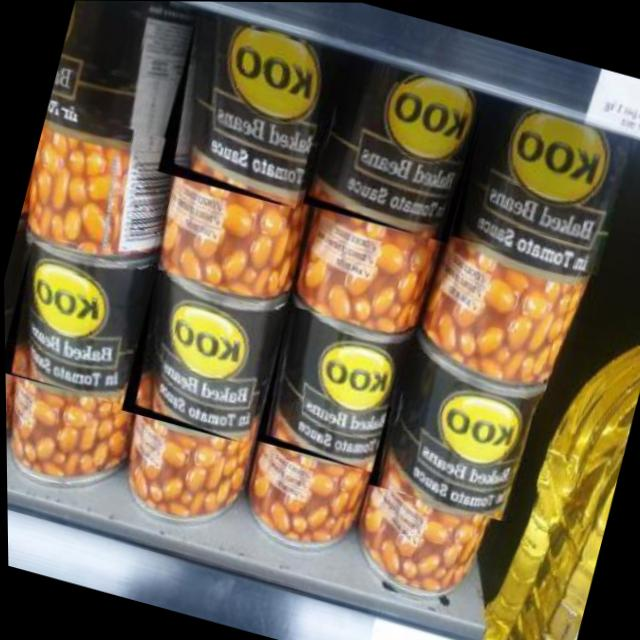Beans: (153, 13, 336, 209), (298, 65, 483, 244), (446, 99, 632, 277), (363, 352, 539, 523), (117, 268, 283, 446), (250, 303, 406, 474), (3, 239, 152, 406), (46, 0, 201, 140)
